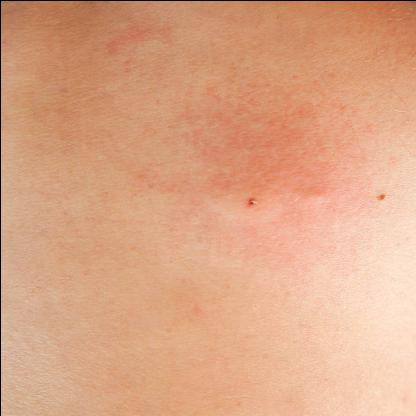Wasp: (183, 153, 297, 238)
